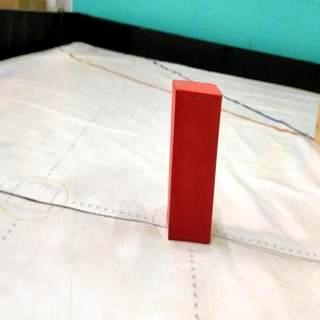redbox: (167, 78, 223, 244)
